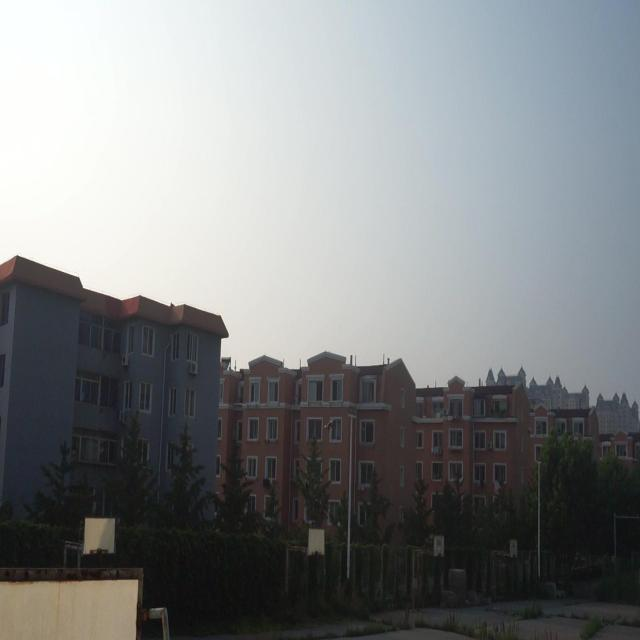UAV: (324, 418, 334, 432)
